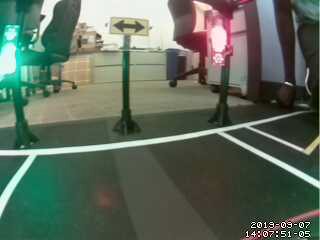Left_Right_sign: (111, 16, 151, 36)
Traffic_light_green: (1, 30, 14, 73)
Traffic_light_red: (207, 23, 227, 60)
